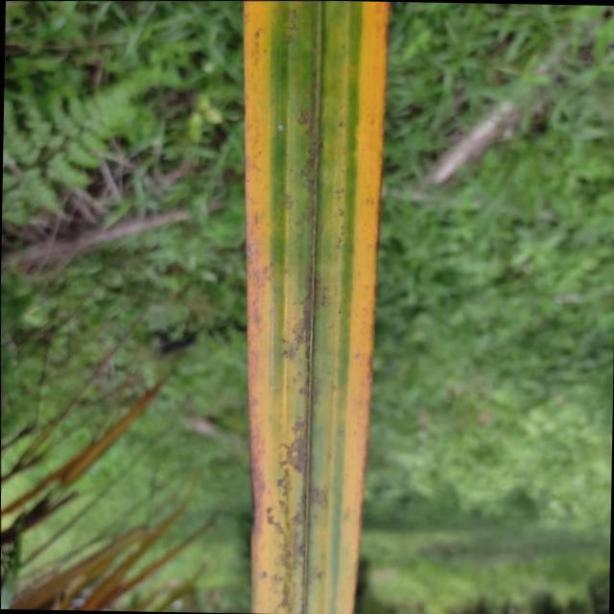Megnesium: (238, 0, 390, 614)
